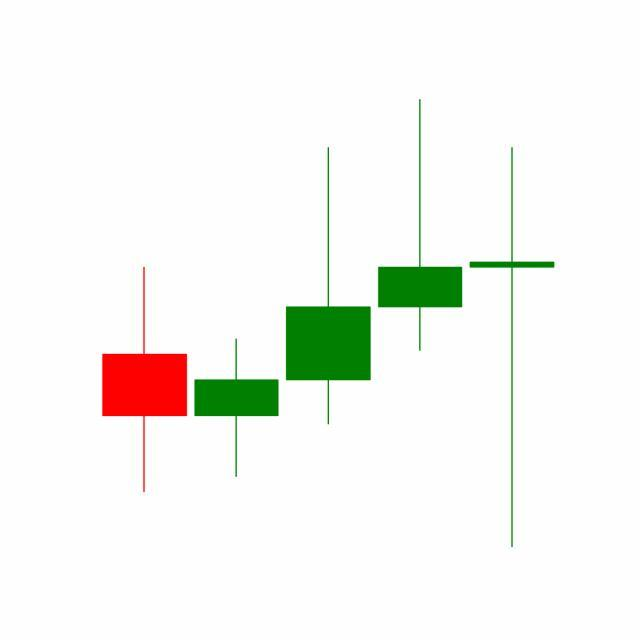Spinning Top: (466, 143, 559, 552)
